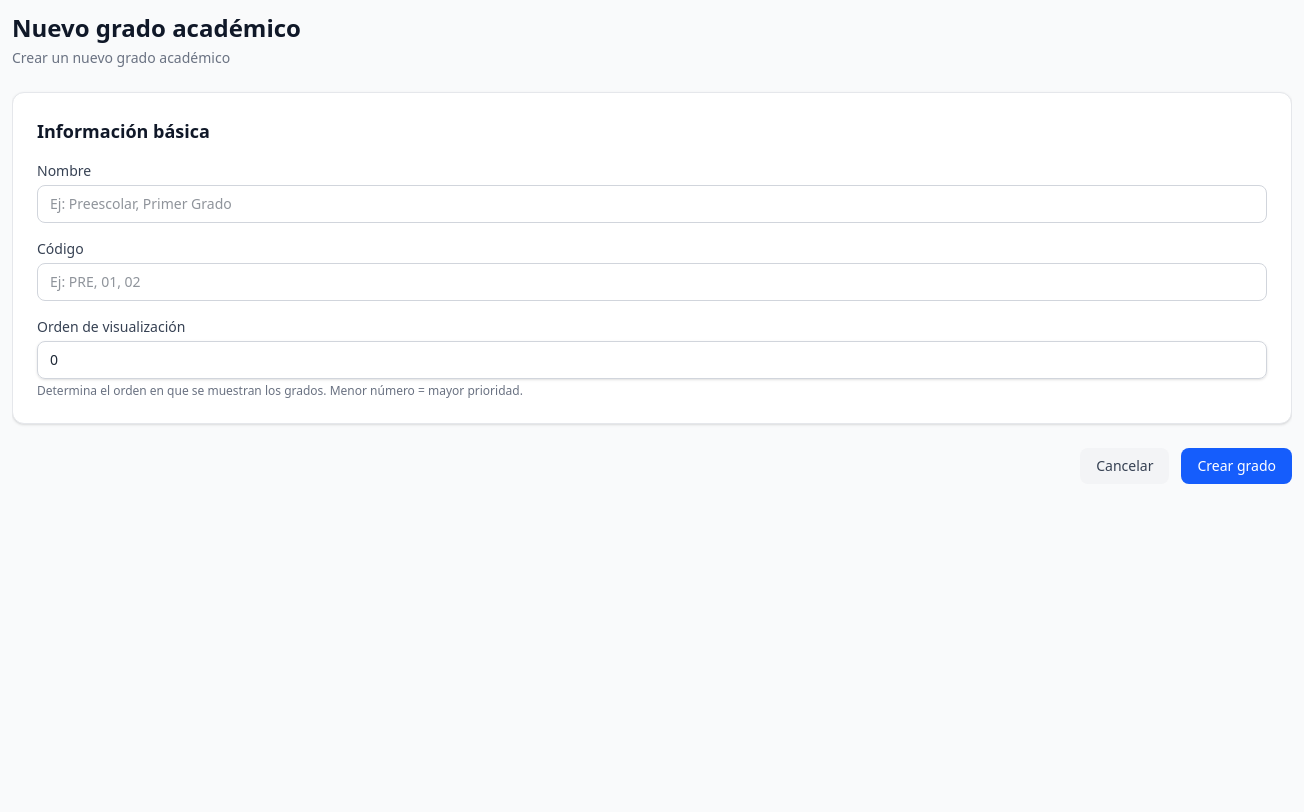
Test: SchoolGradeFormPage › validates required name
Click the button "Crear grado".
click(1237, 466)  # box [1181,448,1292,484]
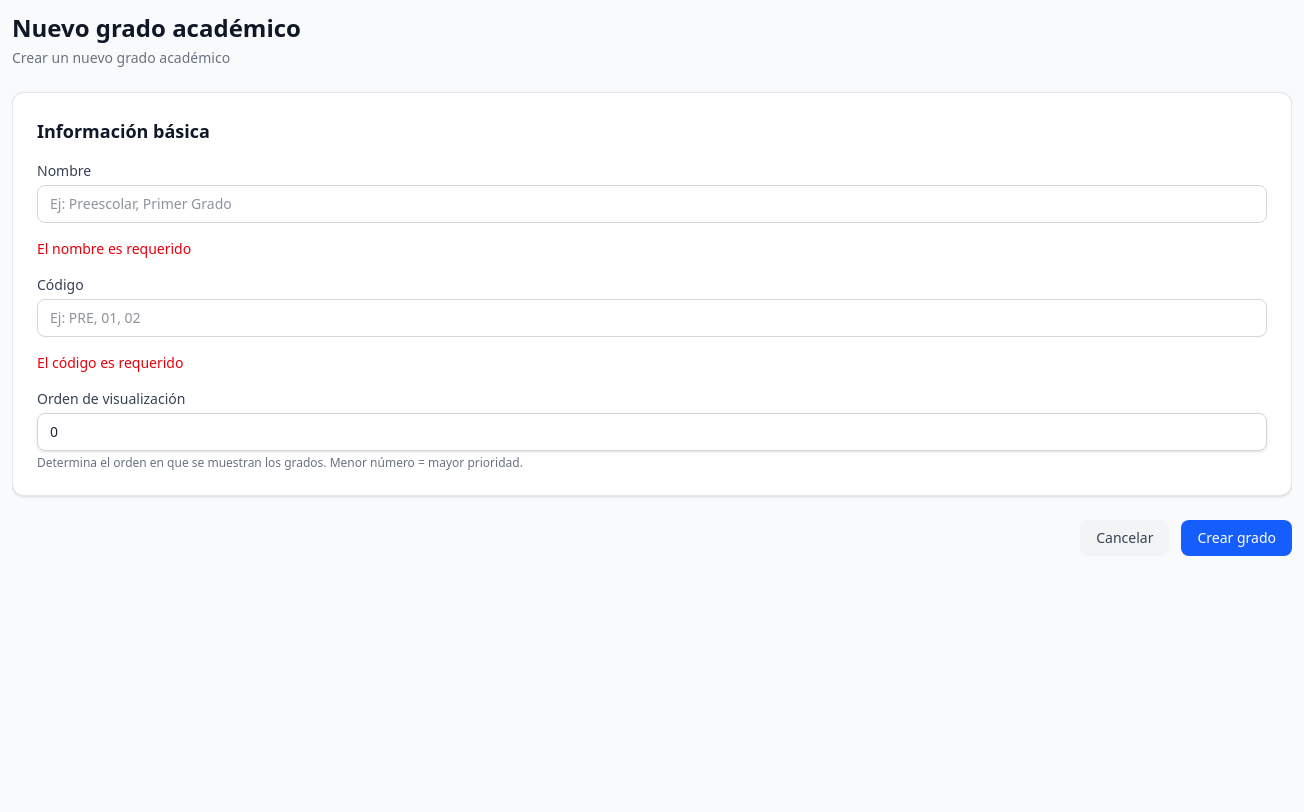
Now the text "El nombre es requerido" is shown, box [37,239,191,258]
